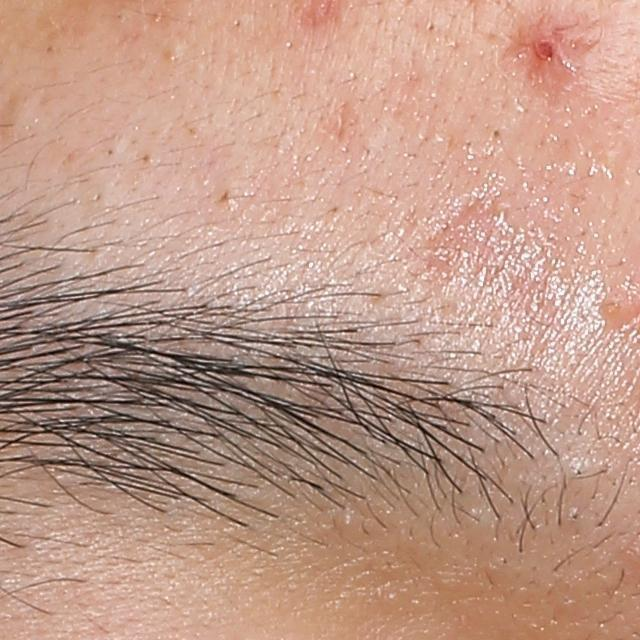comedo: (338, 513, 358, 531), (166, 48, 182, 63)
